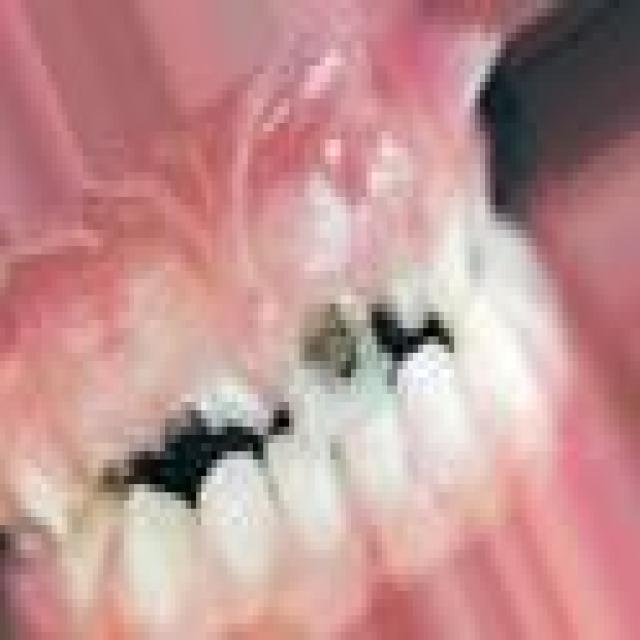caries: (301, 294, 381, 396), (369, 274, 455, 350), (199, 365, 274, 450)
